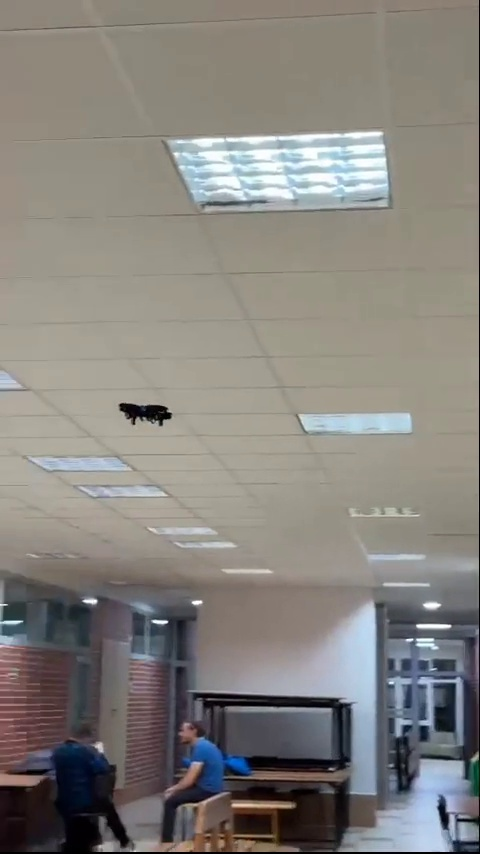drone: (116, 402, 178, 431)
no vest: (53, 721, 128, 842), (168, 720, 235, 814)
